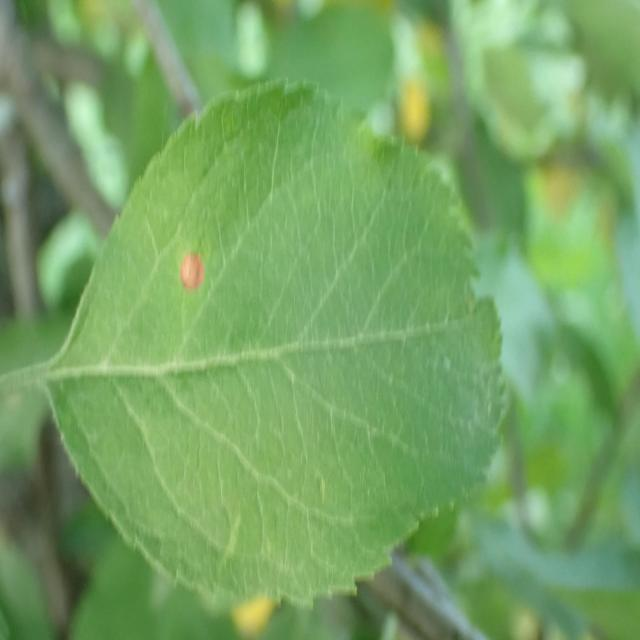Black Rot: (166, 194, 221, 357)
